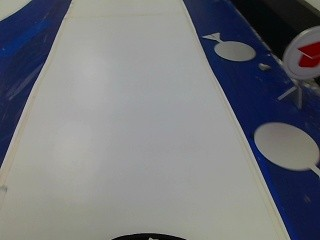school: (286, 25, 318, 82)
